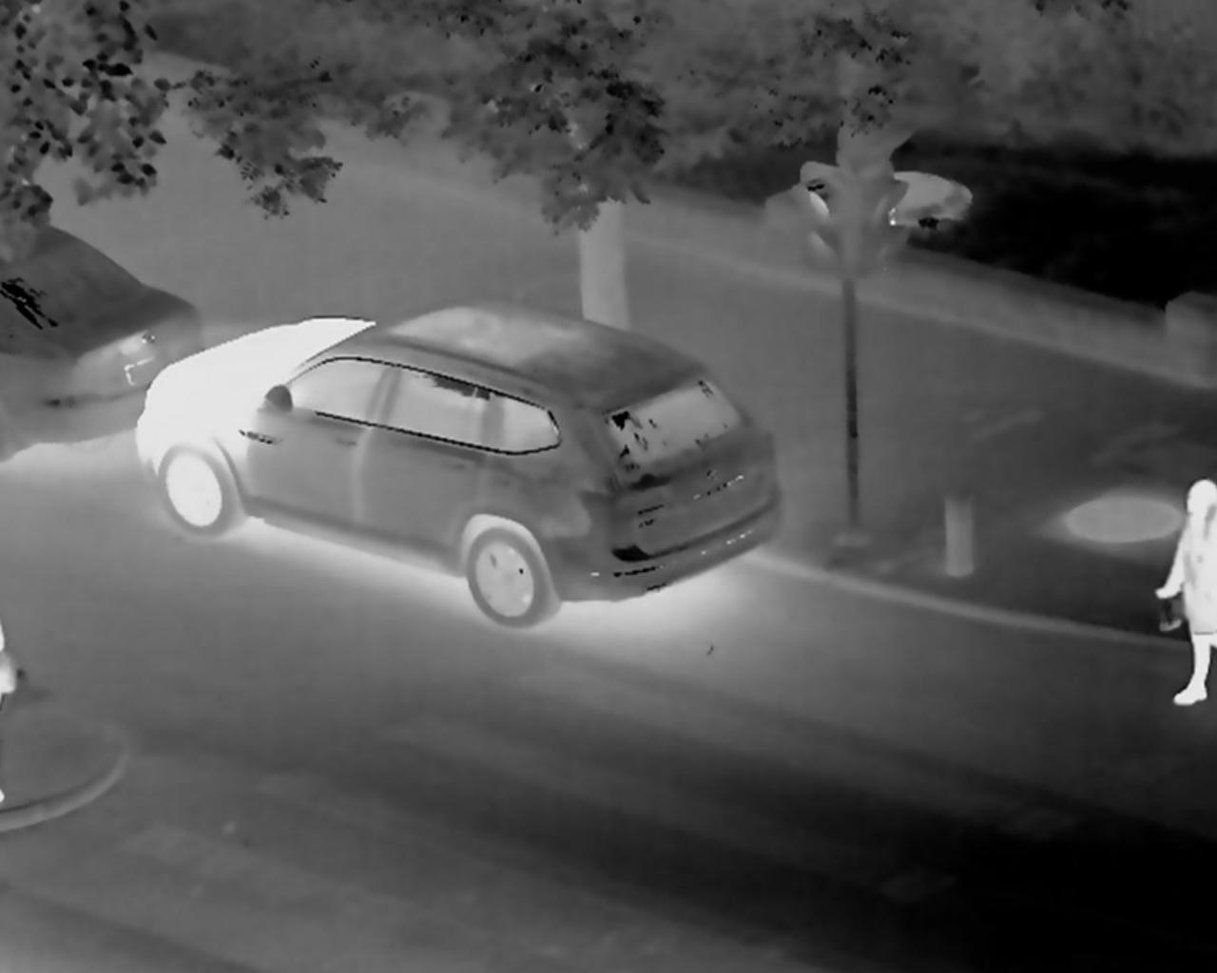person: (1157, 453, 1217, 709)
